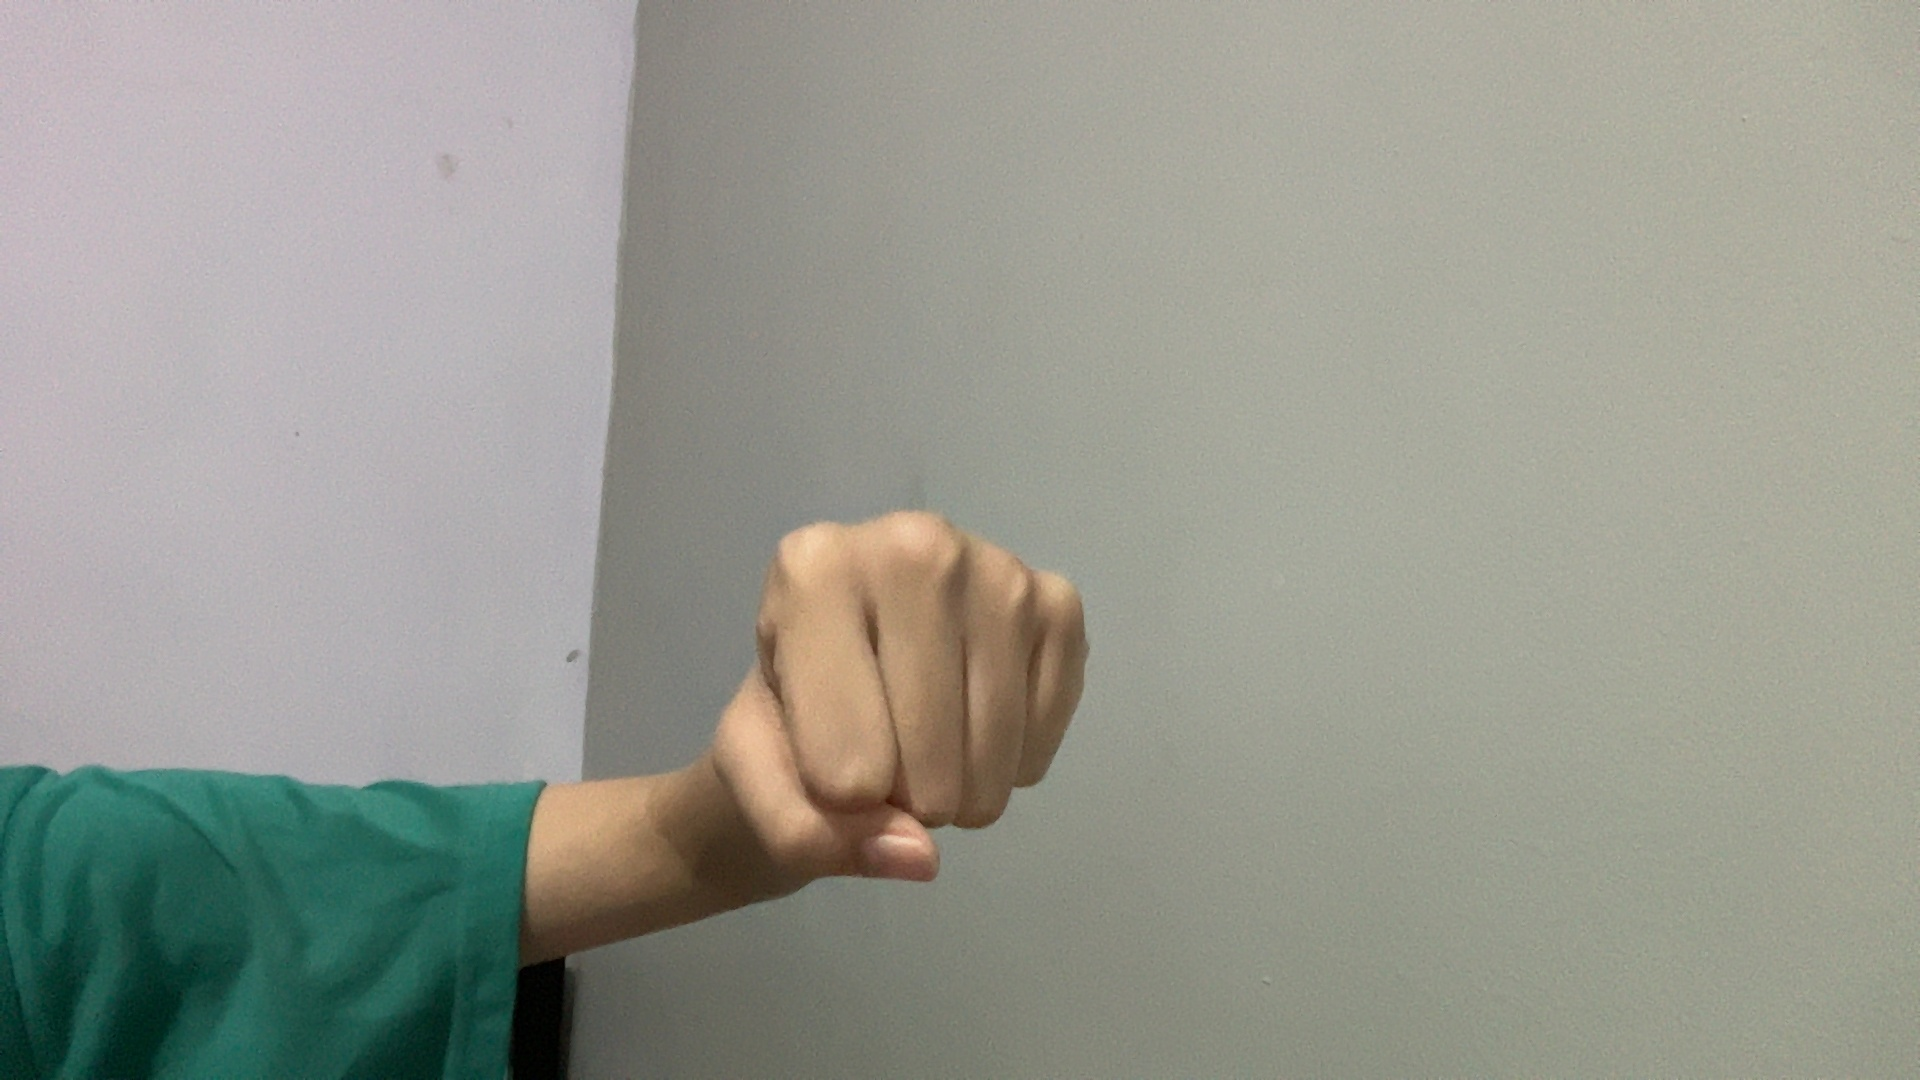Yes: (525, 367, 1271, 975)
